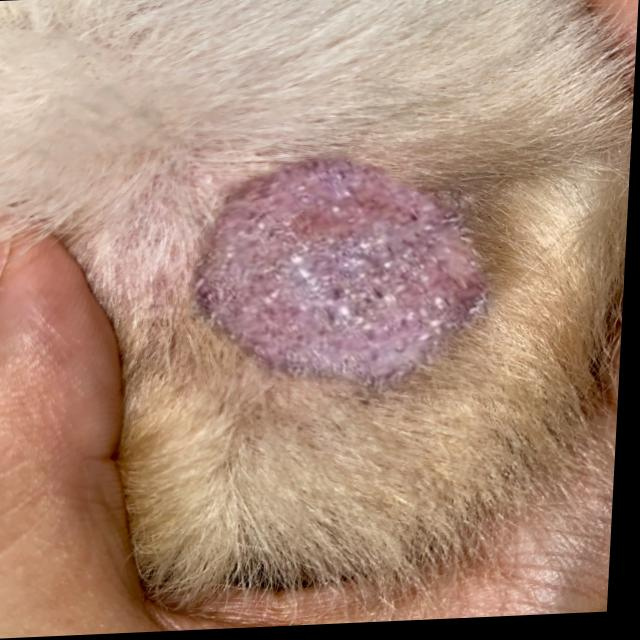ringworm: (157, 142, 500, 419)
